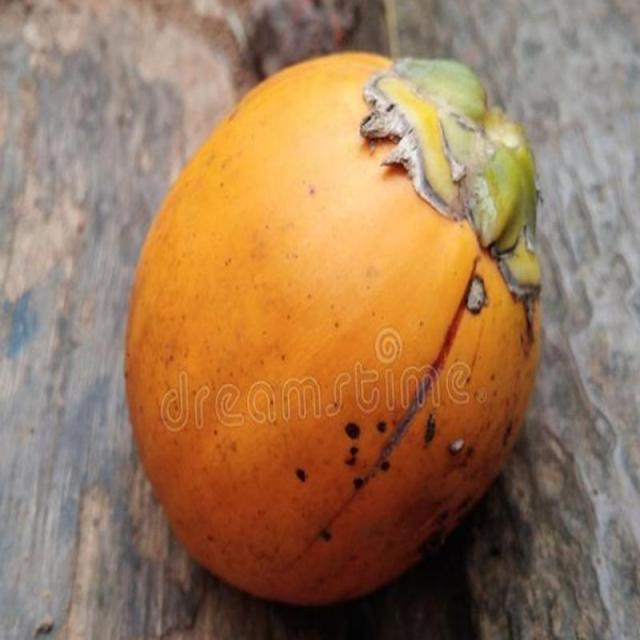good: (123, 51, 543, 610)
